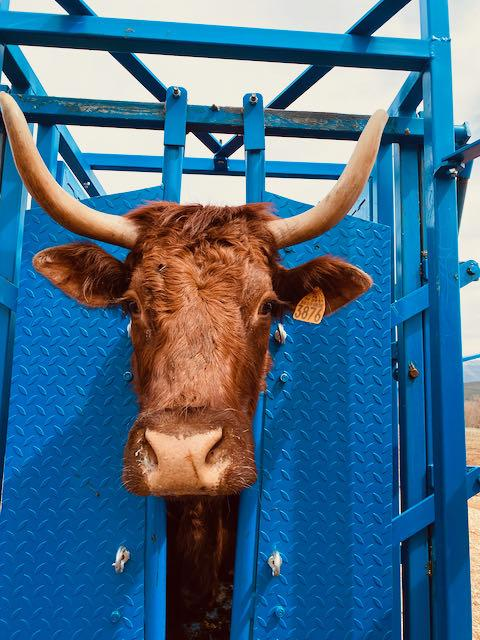muzzles: (120, 422, 263, 500)
